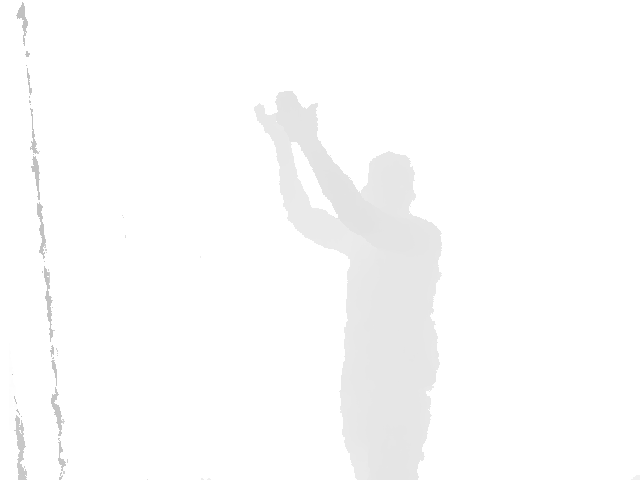hand: (275, 89, 319, 148), (253, 104, 300, 149)
head: (360, 151, 417, 217)
person: (254, 89, 445, 480)
